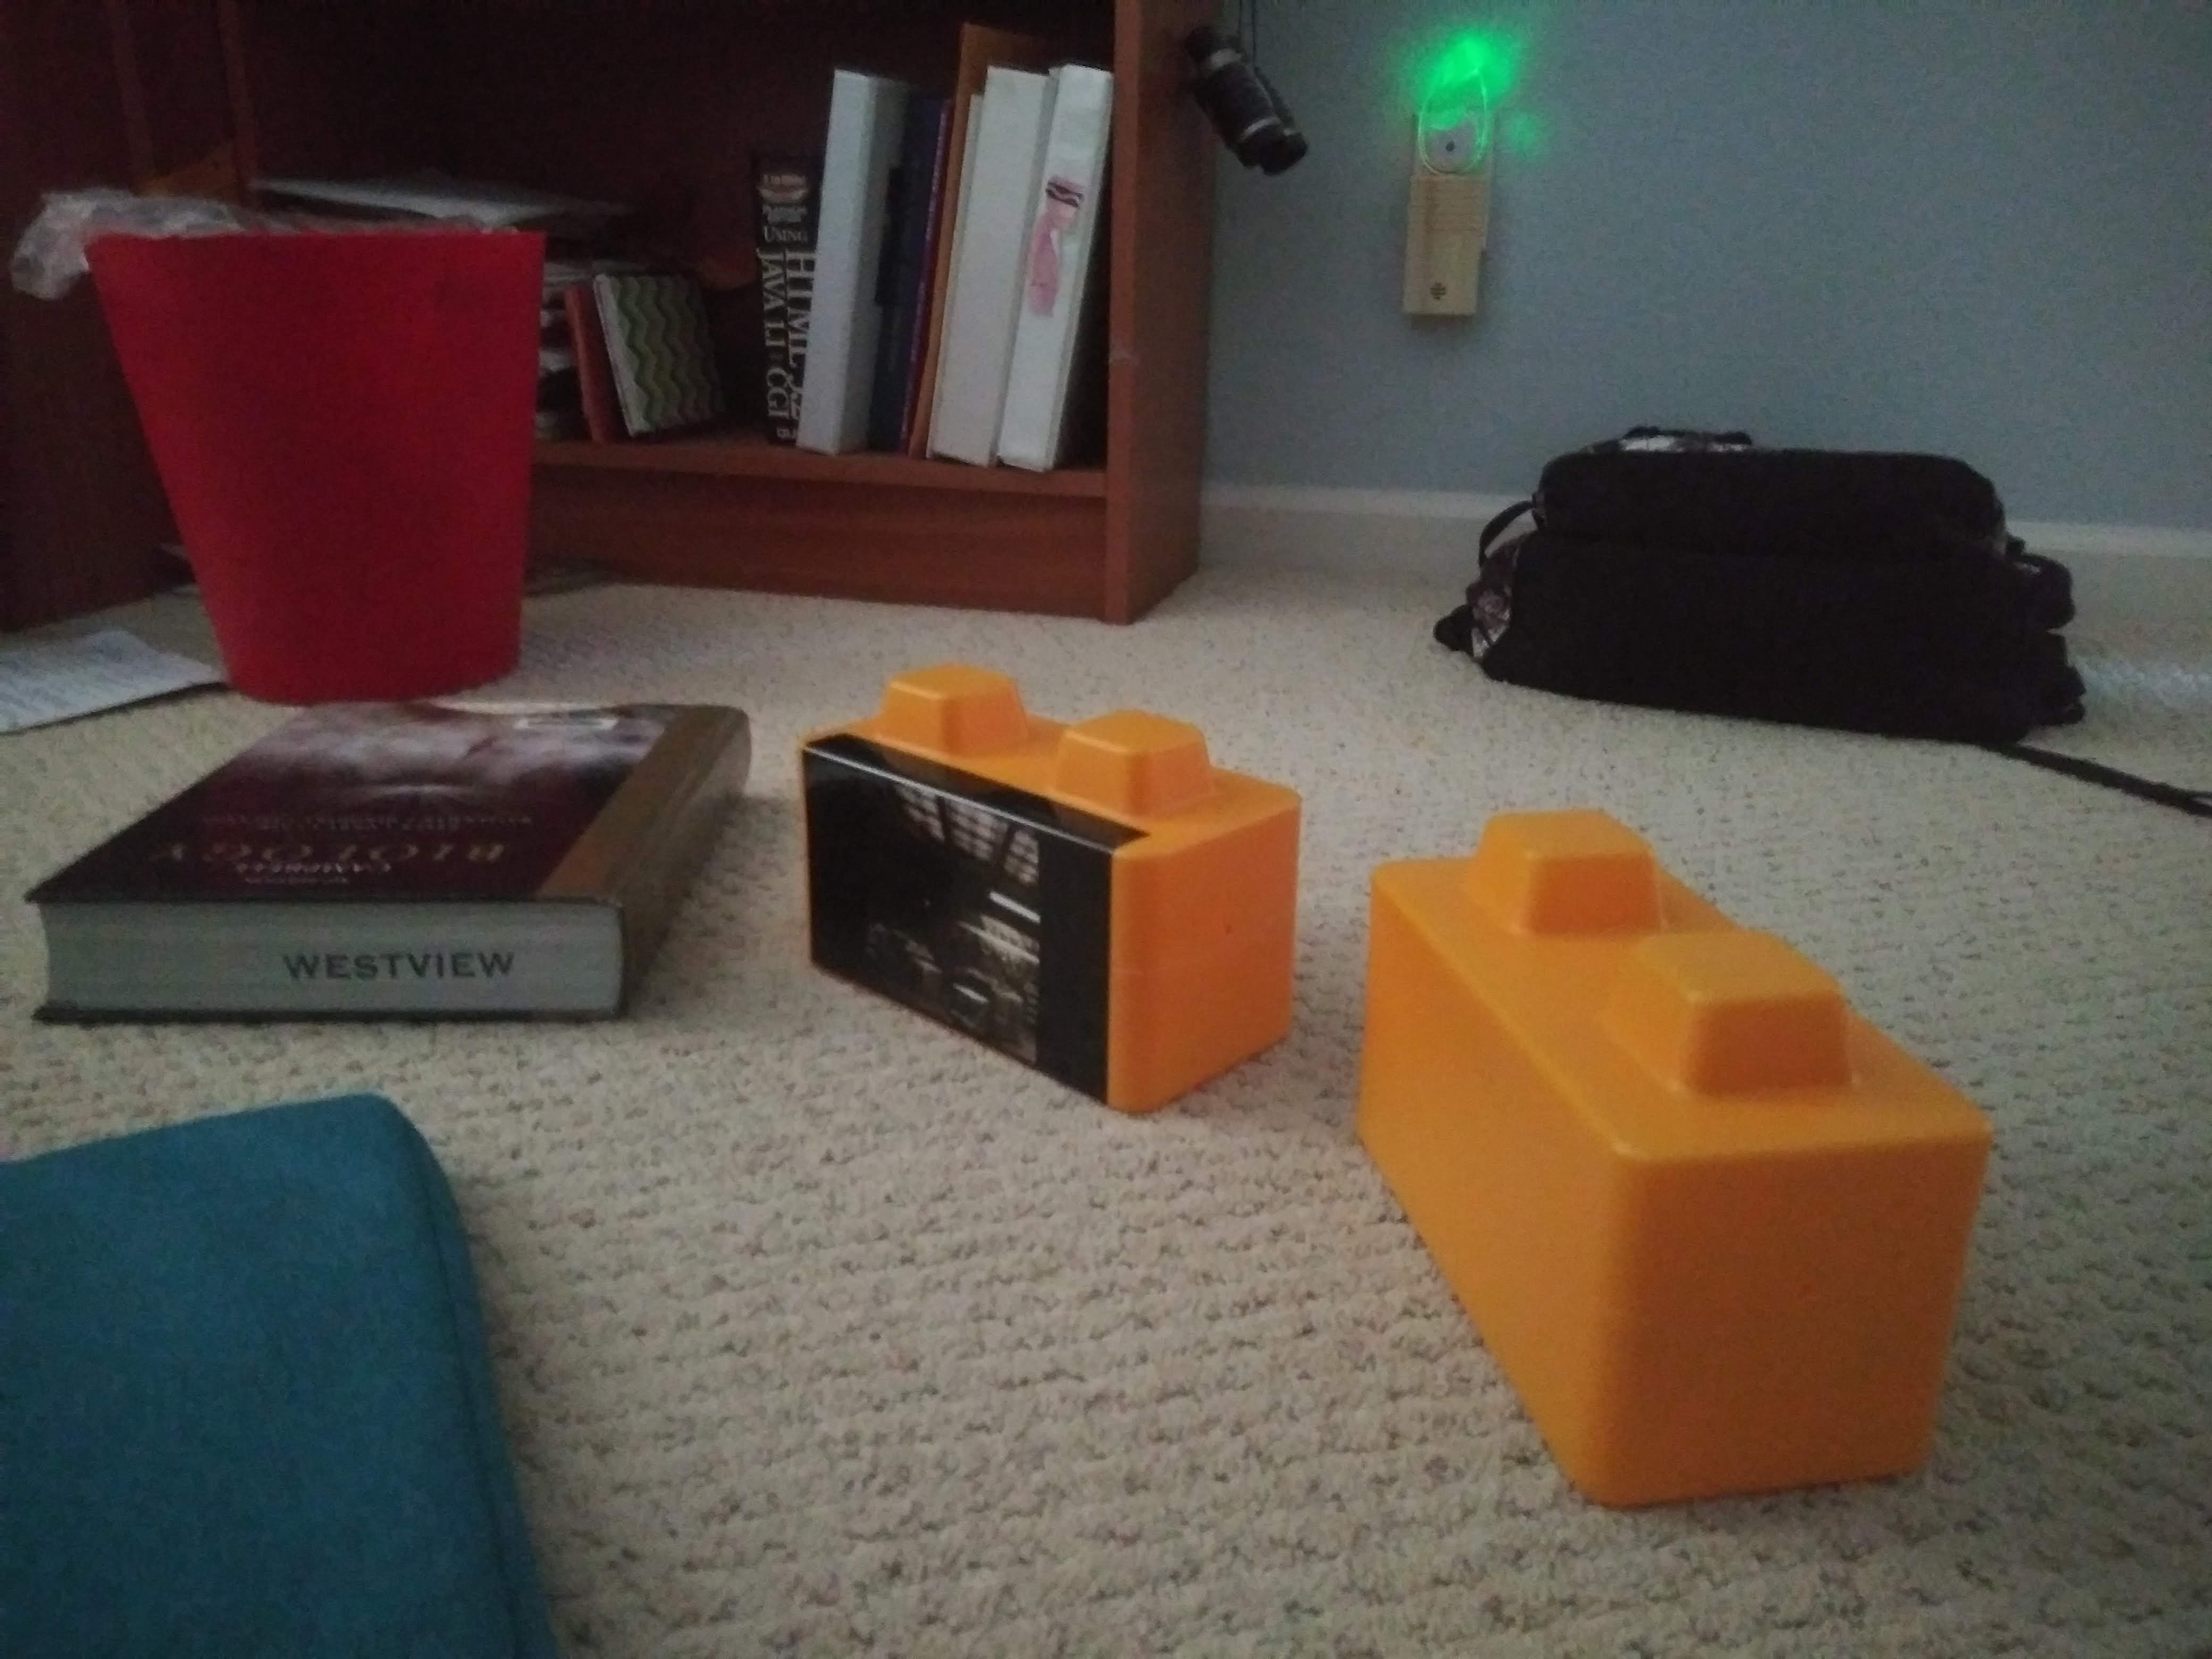skystone: (779, 701, 1289, 1086)
stone: (1371, 829, 1959, 1495)
